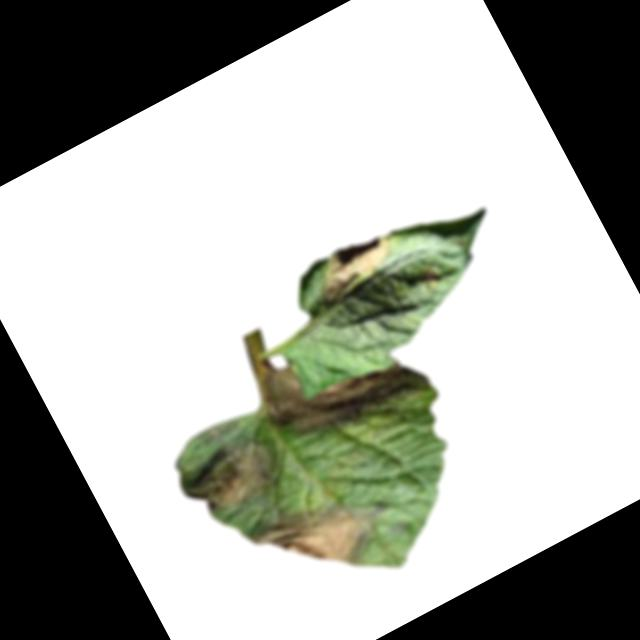Late_blight: (250, 305, 434, 462), (243, 468, 401, 606), (183, 422, 292, 523), (305, 225, 406, 311)
